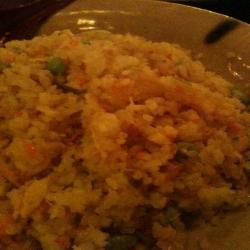rice: (6, 41, 221, 246)
